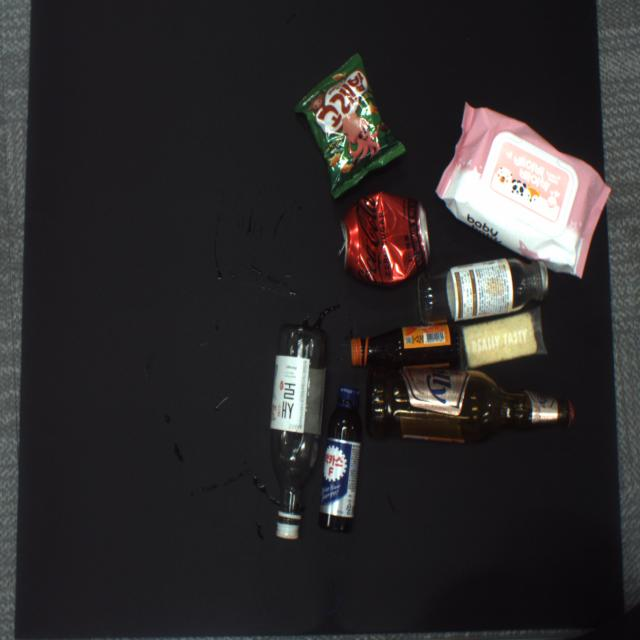beer-bottle: (366, 369, 576, 444)
soju-bottle: (270, 326, 327, 539)
